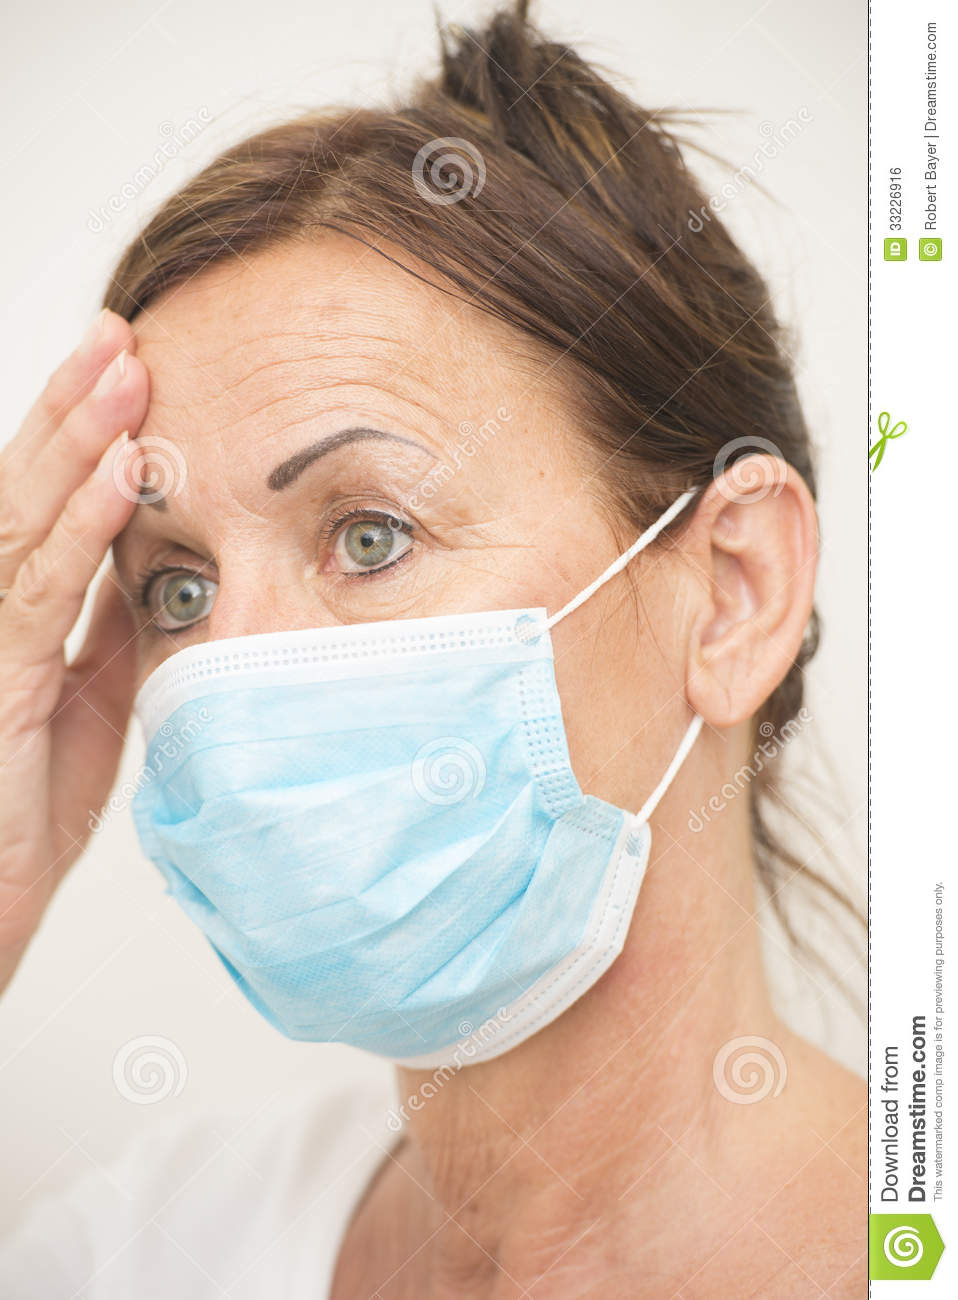mask: (97, 627, 621, 1041)
